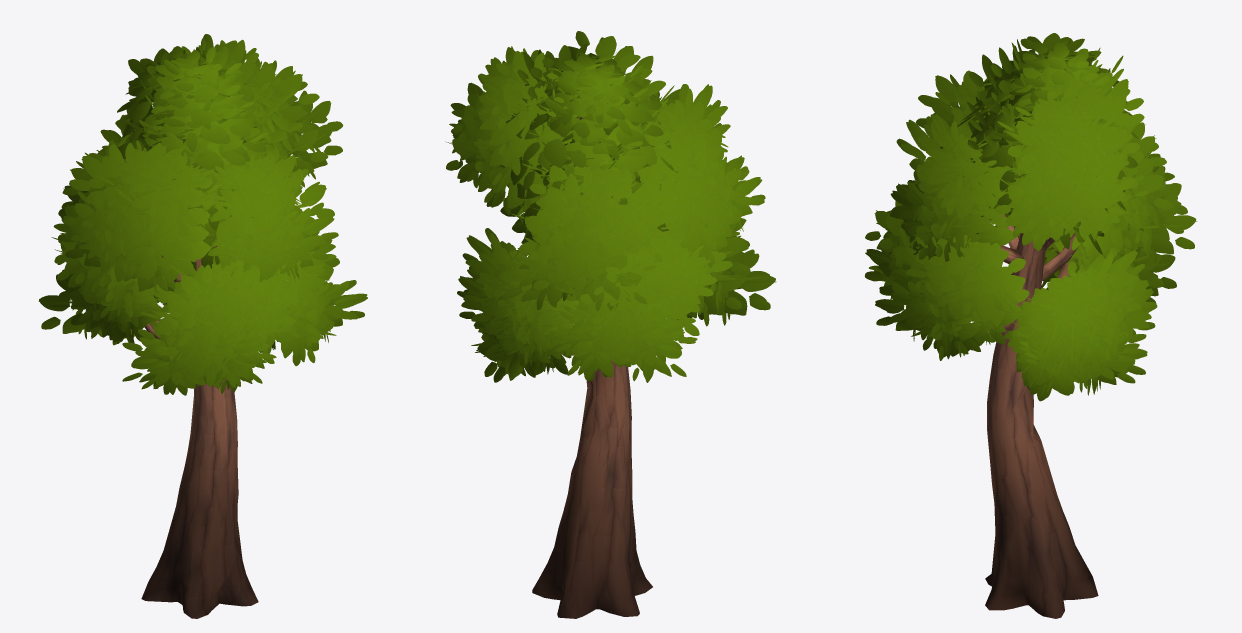
Rendered from prop_commontree_1.glb.
3 views of the same model, side by side, from view 1: azimuth 30°, elevation 25°; view 2: azimuth 150°, elevation 25°; view 3: azimuth 270°, elevation 25° (orthographic). The views are drawn at different scales.
Parts seen in each view (by area): view 1: CommonTree_1; view 2: CommonTree_1; view 3: CommonTree_1.
Boxes of the visible parts, x1,y1,x2,y2 form: CommonTree_1: [38, 34, 367, 618]; CommonTree_1: [445, 31, 776, 618]; CommonTree_1: [865, 33, 1197, 618].
Bounding box in the file's own units: 4.31 × 7.26 × 4.58.
Materials: 2 (2 with a texture image).
